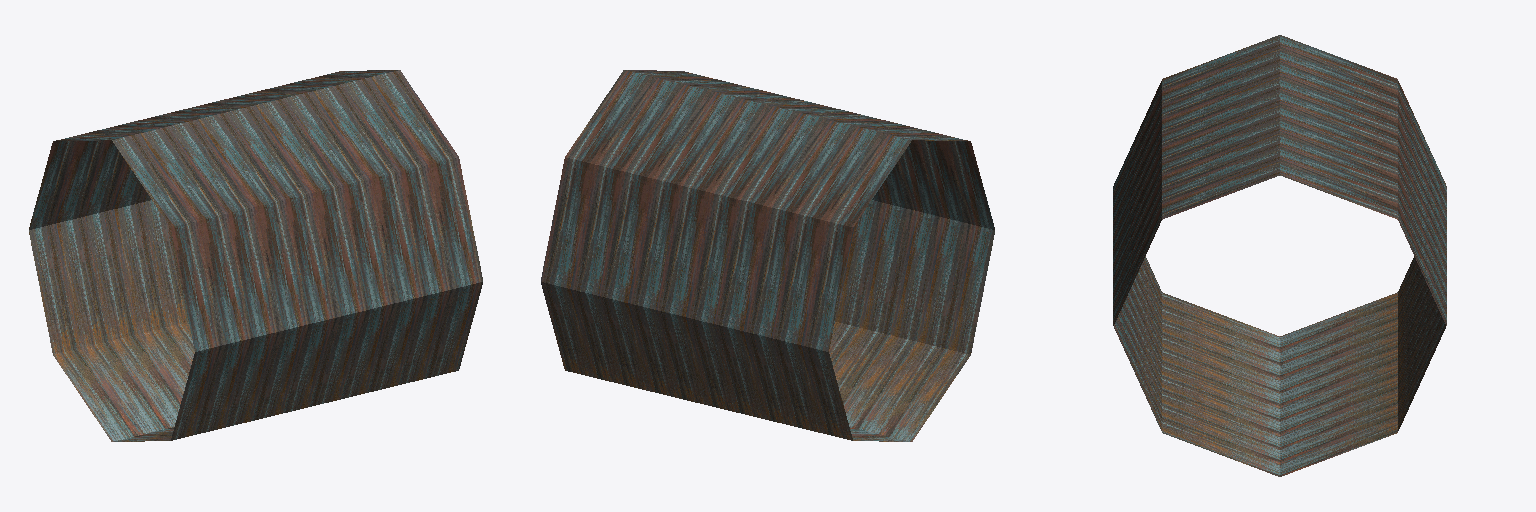
The picture shows the model from 3 angles: view 1: azimuth 30°, elevation 25°; view 2: azimuth 150°, elevation 25°; view 3: azimuth 270°, elevation 25°; orthographic projection.
Size of the model in its own units: 2 by 2 by 2.
Materials: 1 (1 with a texture image).